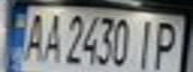0: (112, 15, 133, 69)
2: (60, 10, 84, 65)
3: (97, 12, 118, 66)
4: (78, 11, 100, 66)
A: (39, 9, 66, 64), (21, 9, 48, 63)
I: (133, 16, 160, 70)
P: (148, 17, 187, 71)
